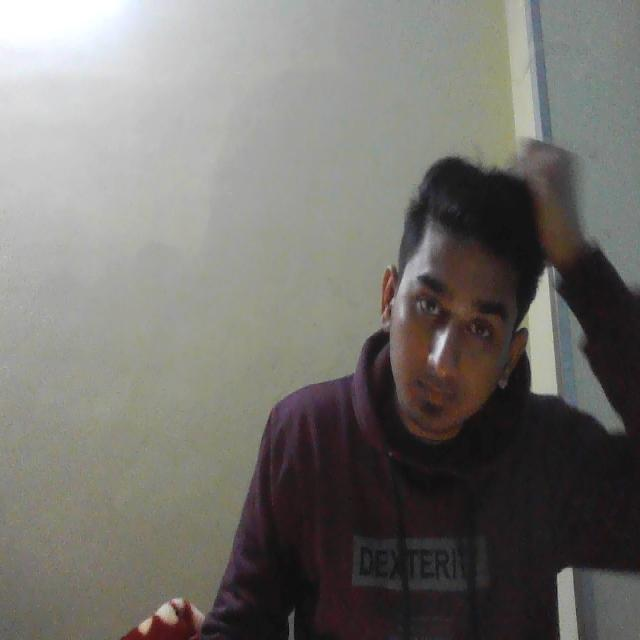real: (377, 173, 528, 459)
